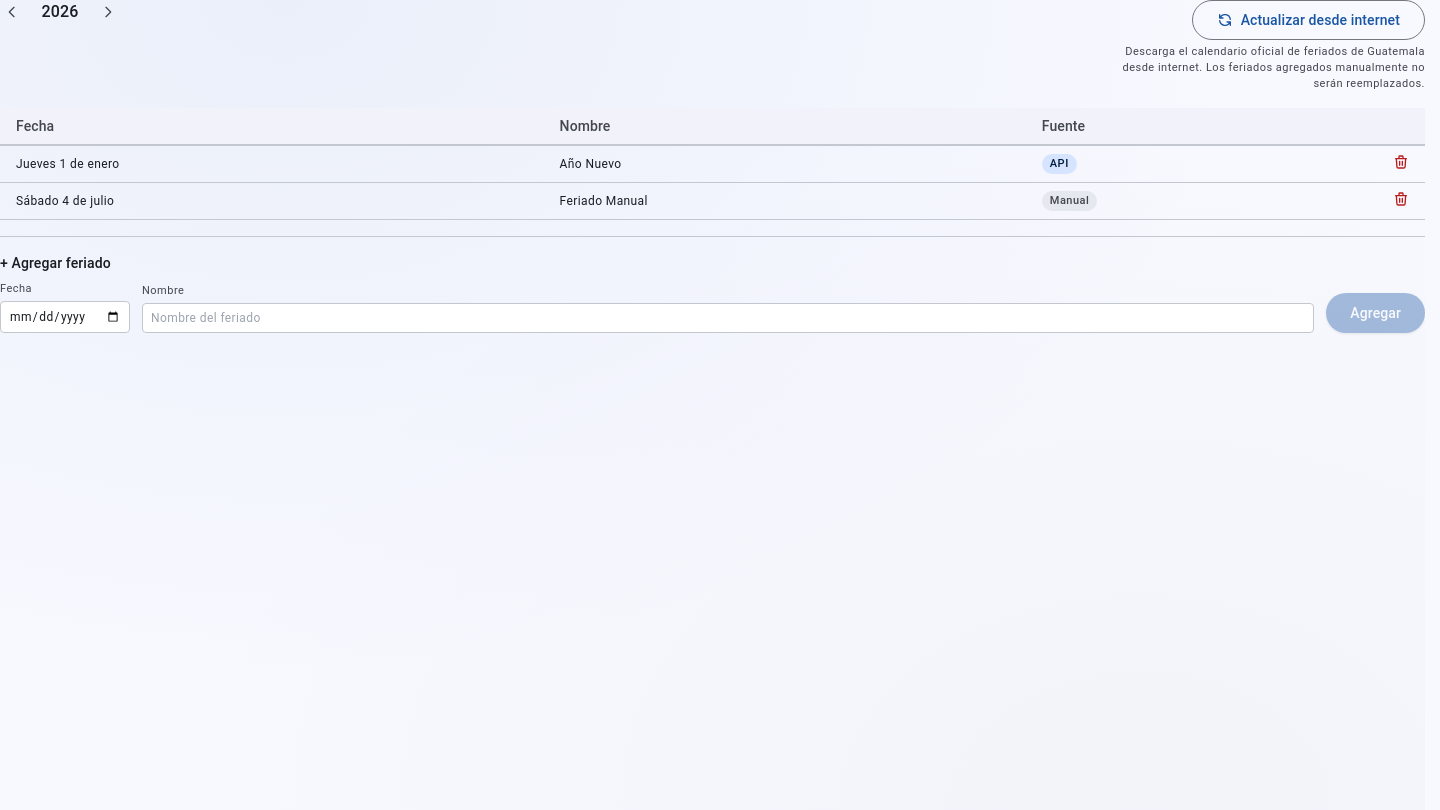
Test case: HolidaysTab delete › removes holiday from table after successful delete
expect the text "Año Nuevo" is shown: met, box [544,145,1026,182]
Click the button named "eliminar feriado" in the row of "Jueves 1 de enero". click: (1401, 162)
box: [1393,154,1409,170]
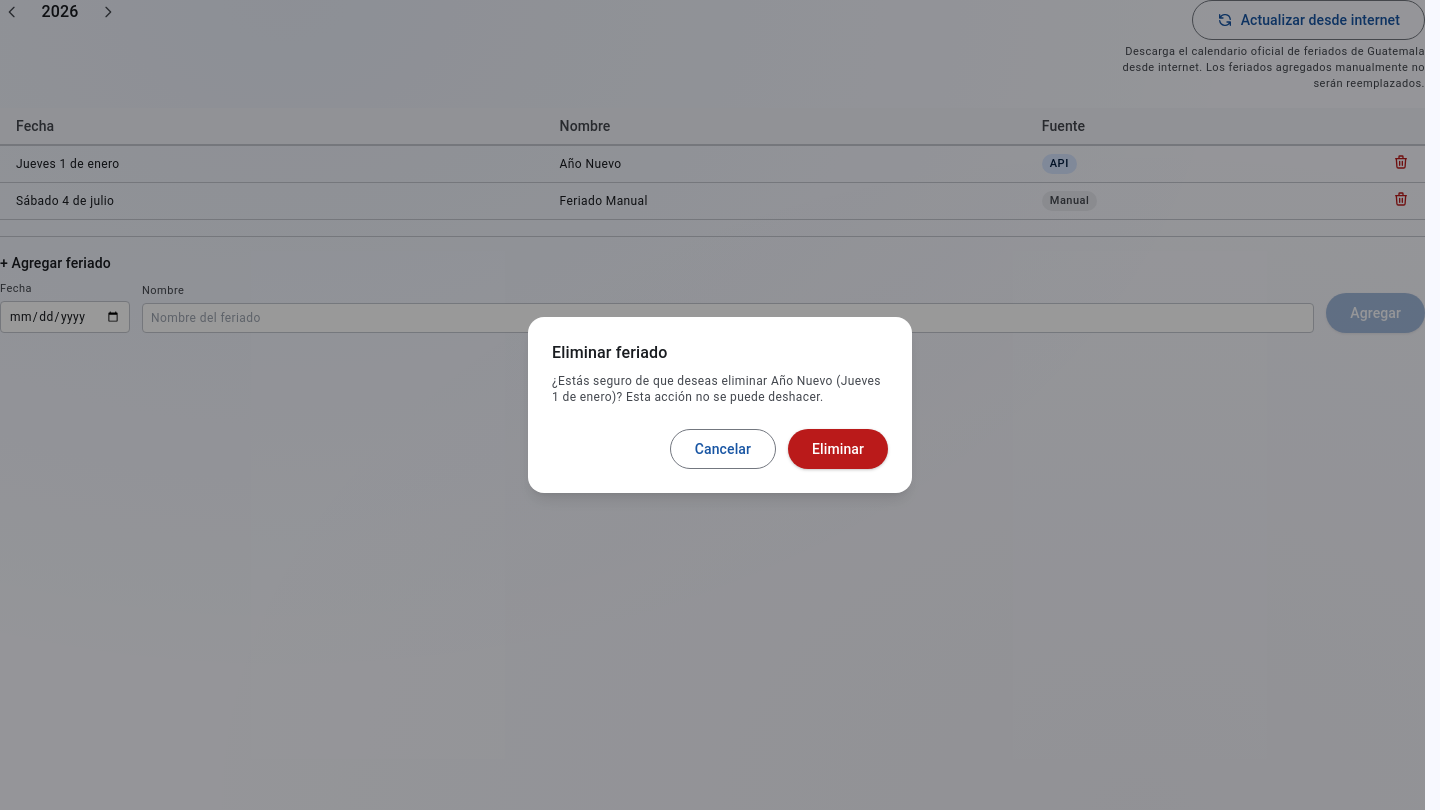
Click the button "Eliminar". click: (838, 449)
box: [788,429,888,469]
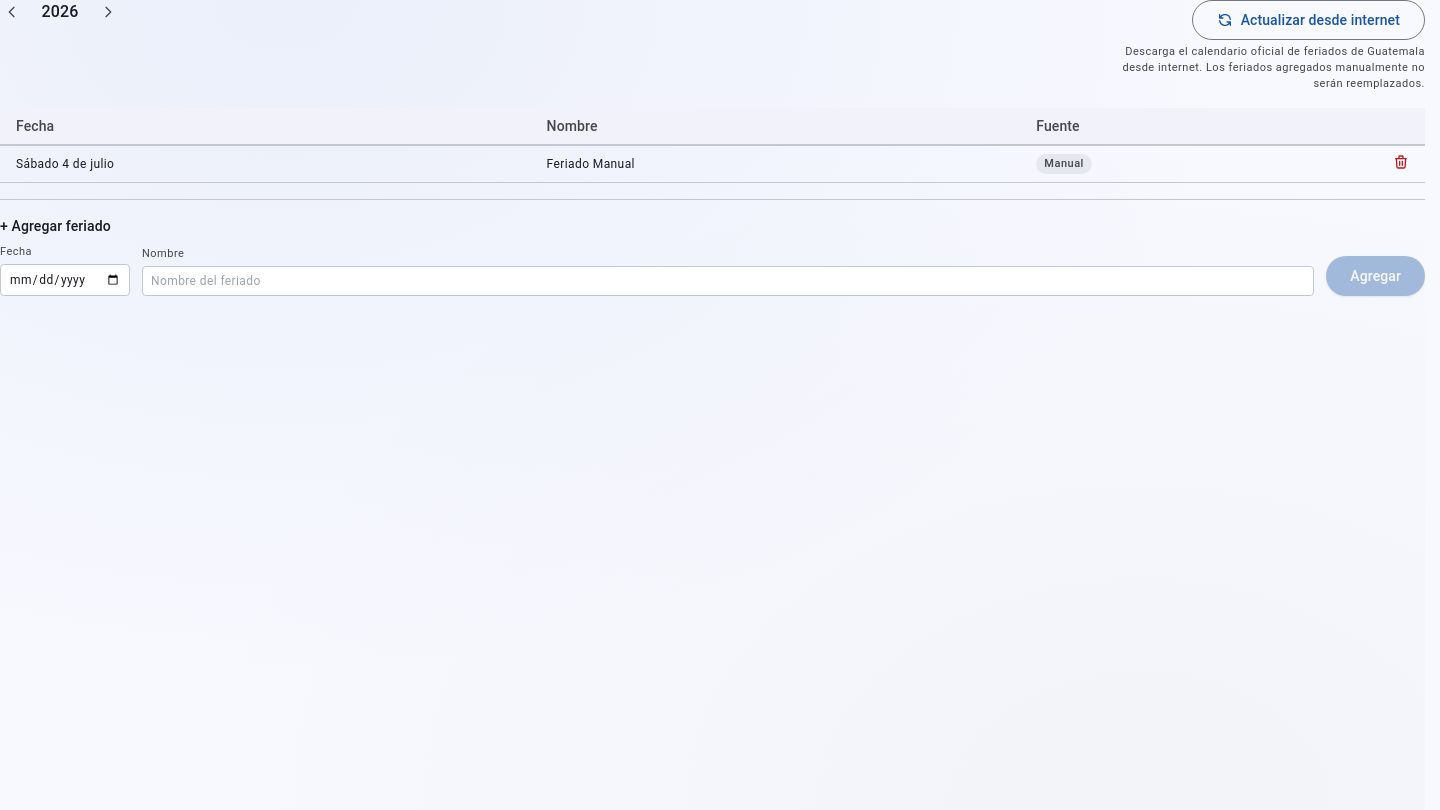
expect the text "Año Nuevo" is gone: met
